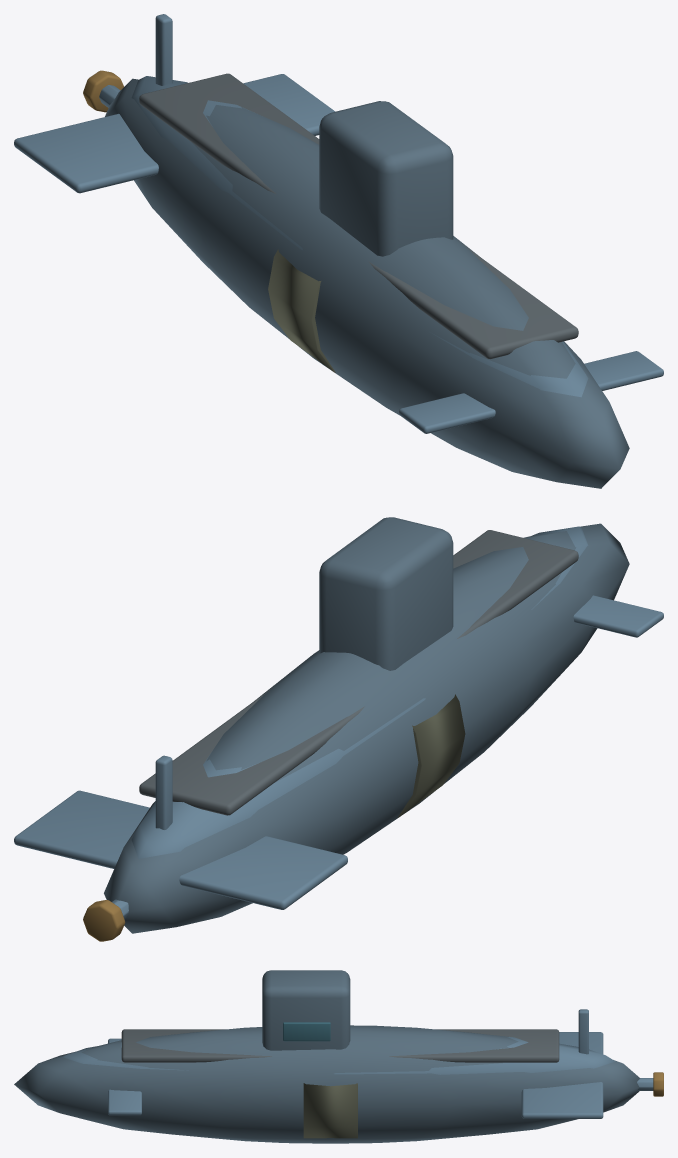
Rendered from hero-submarine-lod3.glb.
3 renders of one model, top to bottom at view 1: azimuth 30°, elevation 25°; view 2: azimuth 150°, elevation 25°; view 3: azimuth 270°, elevation 25°, orthographic. The views are drawn at different scales.
Visible parts, largest first — view 1: pressure-hull, rounded-sail, deck-casing, stern-horizontal-plane, bow-diving-planes, upper-hull-wet-sheen, waterline-grime-band, stern-rudder, propeller-hub; view 2: pressure-hull, rounded-sail, stern-horizontal-plane, deck-casing, upper-hull-wet-sheen, waterline-grime-band, bow-diving-planes, propeller-hub, stern-rudder; view 3: pressure-hull, rounded-sail, deck-casing, stern-horizontal-plane, upper-hull-wet-sheen, waterline-grime-band, bridge-window-band, bow-diving-planes, stern-rudder.
Part boxes in pixels (bbox=[...]): pressure-hull: bbox=[105, 78, 629, 488]; rounded-sail: bbox=[319, 101, 453, 256]; deck-casing: bbox=[139, 73, 578, 359]; stern-horizontal-plane: bbox=[14, 74, 334, 193]; bow-diving-planes: bbox=[399, 351, 663, 433]; upper-hull-wet-sheen: bbox=[131, 76, 588, 397]; waterline-grime-band: bbox=[268, 249, 335, 372]; stern-rudder: bbox=[155, 14, 172, 85]; propeller-hub: bbox=[83, 70, 123, 112]; pressure-hull: bbox=[104, 523, 629, 933]; rounded-sail: bbox=[319, 517, 453, 670]; stern-horizontal-plane: bbox=[14, 790, 347, 909]; deck-casing: bbox=[139, 530, 578, 815]; upper-hull-wet-sheen: bbox=[131, 526, 588, 858]; waterline-grime-band: bbox=[397, 694, 465, 817]; bow-diving-planes: bbox=[573, 595, 663, 637]; propeller-hub: bbox=[83, 900, 125, 941]; stern-rudder: bbox=[155, 755, 172, 829]; pressure-hull: bbox=[14, 1025, 640, 1143]; rounded-sail: bbox=[262, 970, 350, 1050]; deck-casing: bbox=[121, 1029, 559, 1062]; stern-horizontal-plane: bbox=[521, 1032, 603, 1118]; upper-hull-wet-sheen: bbox=[63, 1036, 615, 1074]; waterline-grime-band: bbox=[303, 1083, 357, 1138]; bridge-window-band: bbox=[283, 1022, 330, 1041]; bow-diving-planes: bbox=[108, 1038, 141, 1115]; stern-rudder: bbox=[578, 1009, 588, 1054].
Size of the model in its own units: 6 by 5.43 by 19.9.
